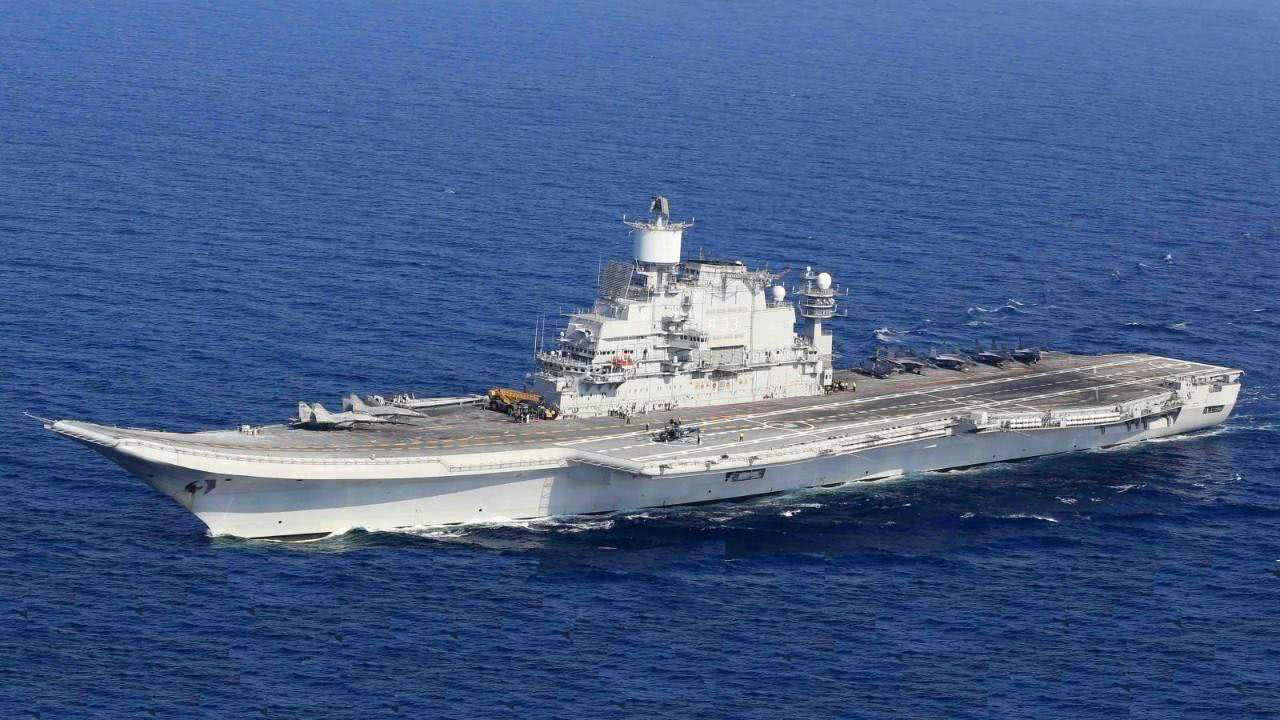warship: (31, 180, 1249, 567)
